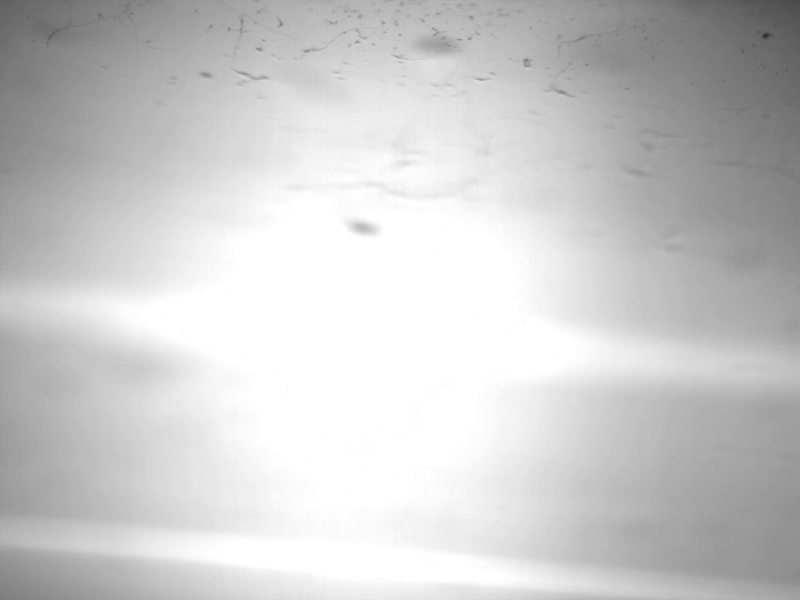bead: (341, 214, 384, 239)
